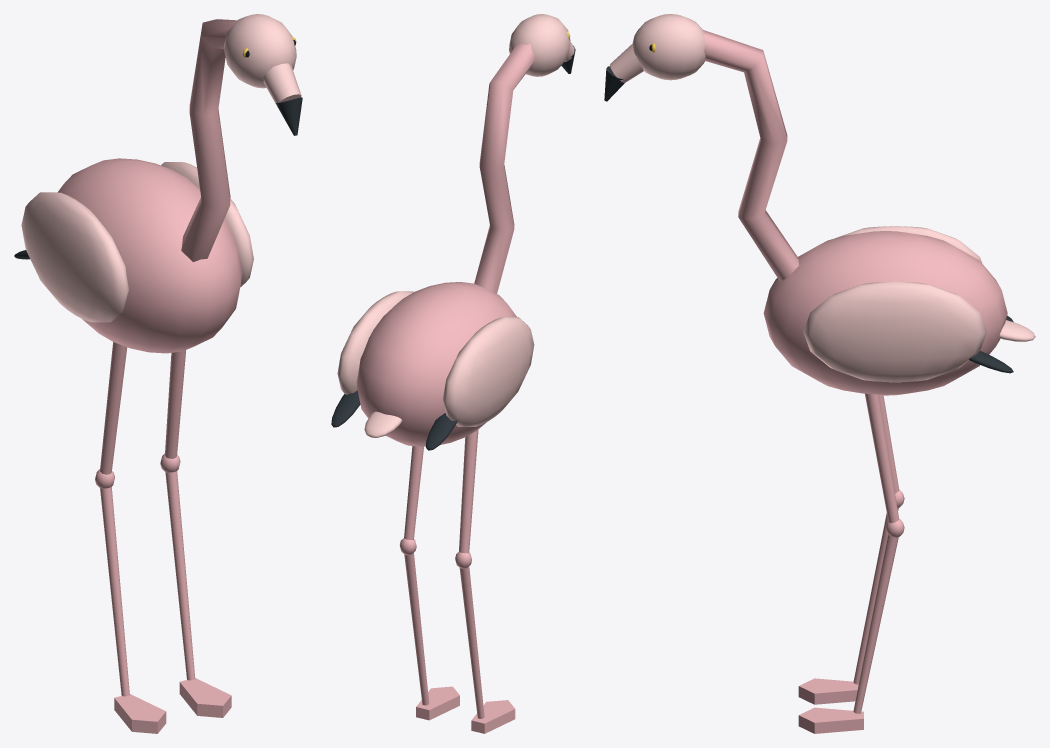
File: bird_greater_flamingo.glb
3 renders of one model, left to right at view 1: azimuth 30°, elevation 25°; view 2: azimuth 150°, elevation 25°; view 3: azimuth 270°, elevation 25°, orthographic. The views are drawn at different scales.
Visible parts, largest first — view 1: Flamingo_Pink_Body, Flamingo_Folded_Wing_-1, Flamingo_Curved_Long_Neck, Flamingo_Head, Flamingo_Lower_Leg_1, Flamingo_Lower_Leg_-1, Flamingo_Upper_Leg_-1, Flamingo_Folded_Wing_1, Flamingo_Upper_Leg_1, Flamingo_Webbed_Foot_-1, Flamingo_Webbed_Foot_1, Flamingo_Pale_Upper_Bill (+1 smaller); view 2: Flamingo_Pink_Body, Flamingo_Folded_Wing_-1, Flamingo_Curved_Long_Neck, Flamingo_Head, Flamingo_Folded_Wing_1, Flamingo_Upper_Leg_-1, Flamingo_Lower_Leg_-1, Flamingo_Lower_Leg_1, Flamingo_Upper_Leg_1, Flamingo_Webbed_Foot_-1, Flamingo_Webbed_Foot_1, Flamingo_Tail (+2 smaller); view 3: Flamingo_Pink_Body, Flamingo_Folded_Wing_1, Flamingo_Curved_Long_Neck, Flamingo_Head, Flamingo_Lower_Leg_1, Flamingo_Upper_Leg_1, Flamingo_Webbed_Foot_1, Flamingo_Webbed_Foot_-1, Flamingo_Lower_Leg_-1, Flamingo_Folded_Wing_-1, Flamingo_Pale_Upper_Bill.
Part boxes in pixels (x1=…): Flamingo_Pink_Body: x1=58, y1=158, x2=242, y2=353; Flamingo_Folded_Wing_-1: x1=21, y1=192, x2=128, y2=322; Flamingo_Curved_Long_Neck: x1=181, y1=19, x2=237, y2=261; Flamingo_Head: x1=224, y1=14, x2=296, y2=88; Flamingo_Lower_Leg_1: x1=165, y1=471, x2=195, y2=680; Flamingo_Lower_Leg_-1: x1=100, y1=487, x2=129, y2=696; Flamingo_Upper_Leg_-1: x1=100, y1=342, x2=127, y2=474; Flamingo_Folded_Wing_1: x1=161, y1=162, x2=253, y2=286; Flamingo_Upper_Leg_1: x1=165, y1=350, x2=185, y2=458; Flamingo_Webbed_Foot_-1: x1=114, y1=694, x2=166, y2=733; Flamingo_Webbed_Foot_1: x1=179, y1=678, x2=231, y2=717; Flamingo_Pale_Upper_Bill: x1=263, y1=63, x2=301, y2=106; Flamingo_Pink_Body: x1=356, y1=282, x2=516, y2=446; Flamingo_Folded_Wing_-1: x1=443, y1=317, x2=534, y2=426; Flamingo_Curved_Long_Neck: x1=474, y1=41, x2=536, y2=293; Flamingo_Head: x1=509, y1=14, x2=570, y2=76; Flamingo_Folded_Wing_1: x1=337, y1=291, x2=413, y2=394; Flamingo_Upper_Leg_-1: x1=459, y1=429, x2=478, y2=553; Flamingo_Lower_Leg_-1: x1=459, y1=566, x2=484, y2=718; Flamingo_Lower_Leg_1: x1=404, y1=553, x2=429, y2=705; Flamingo_Upper_Leg_1: x1=404, y1=446, x2=423, y2=539; Flamingo_Webbed_Foot_-1: x1=471, y1=700, x2=515, y2=733; Flamingo_Webbed_Foot_1: x1=416, y1=686, x2=459, y2=720; Flamingo_Tail: x1=364, y1=411, x2=402, y2=437; Flamingo_Pink_Body: x1=763, y1=231, x2=1007, y2=395; Flamingo_Folded_Wing_1: x1=803, y1=281, x2=986, y2=382; Flamingo_Curved_Long_Neck: x1=702, y1=30, x2=799, y2=281; Flamingo_Head: x1=632, y1=14, x2=705, y2=80; Flamingo_Lower_Leg_1: x1=853, y1=534, x2=898, y2=713; Flamingo_Upper_Leg_1: x1=865, y1=393, x2=899, y2=523; Flamingo_Webbed_Foot_1: x1=798, y1=707, x2=863, y2=733; Flamingo_Webbed_Foot_-1: x1=798, y1=678, x2=858, y2=704; Flamingo_Lower_Leg_-1: x1=853, y1=508, x2=898, y2=684; Flamingo_Folded_Wing_-1: x1=835, y1=226, x2=982, y2=263; Flamingo_Pale_Upper_Bill: x1=610, y1=44, x2=643, y2=83.
Bounding box in the file's own units: 0.312 × 1.38 × 0.7738.
